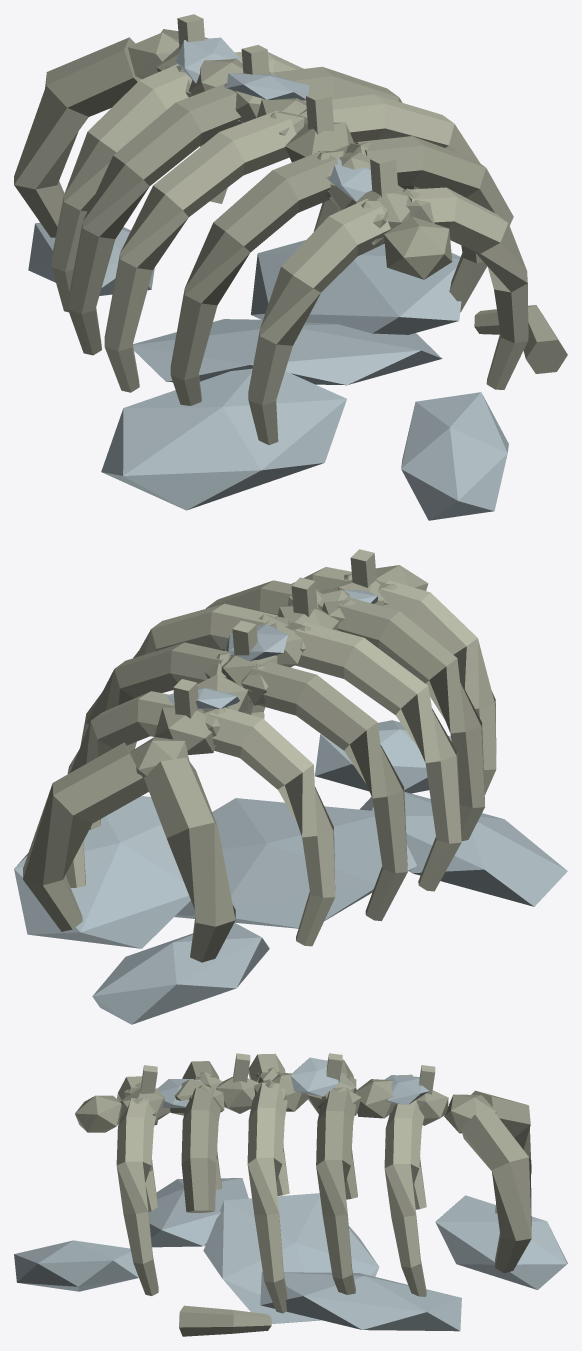
Rendered from Giant_Ribcage_Half_Buried_Snow.glb.
3 views of the same model, one above another, from view 1: azimuth 30°, elevation 25°; view 2: azimuth 150°, elevation 25°; view 3: azimuth 270°, elevation 25° (orthographic). The views are drawn at different scales.
Visible parts, largest first — view 1: Giant_Ribcage_Half_Buried_Snow; view 2: Giant_Ribcage_Half_Buried_Snow; view 3: Giant_Ribcage_Half_Buried_Snow.
Boxes of the visible parts, x1,y1,x2,y2 form: Giant_Ribcage_Half_Buried_Snow: [14, 14, 567, 520]; Giant_Ribcage_Half_Buried_Snow: [14, 549, 567, 1024]; Giant_Ribcage_Half_Buried_Snow: [14, 1053, 567, 1336].
Bounding box in the file's own units: 3.18 × 2.14 × 4.61.
